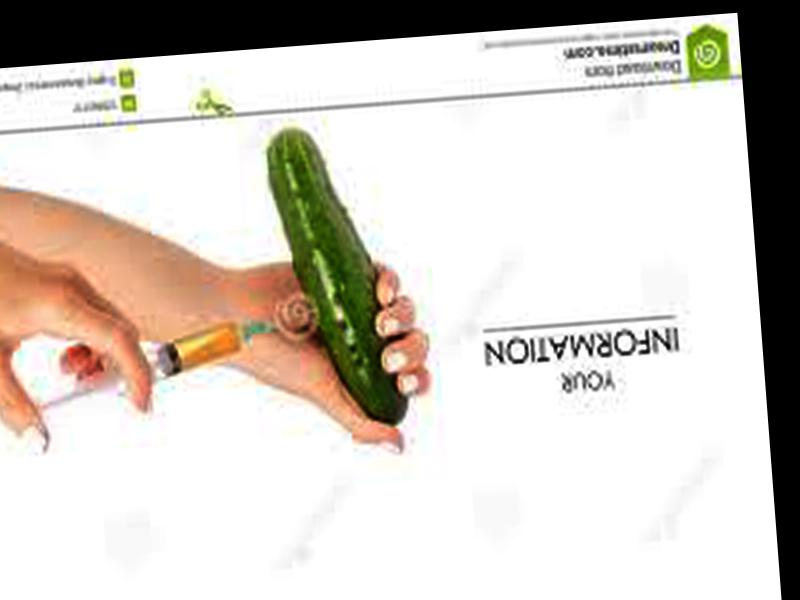Cucumber: (264, 121, 408, 432)
